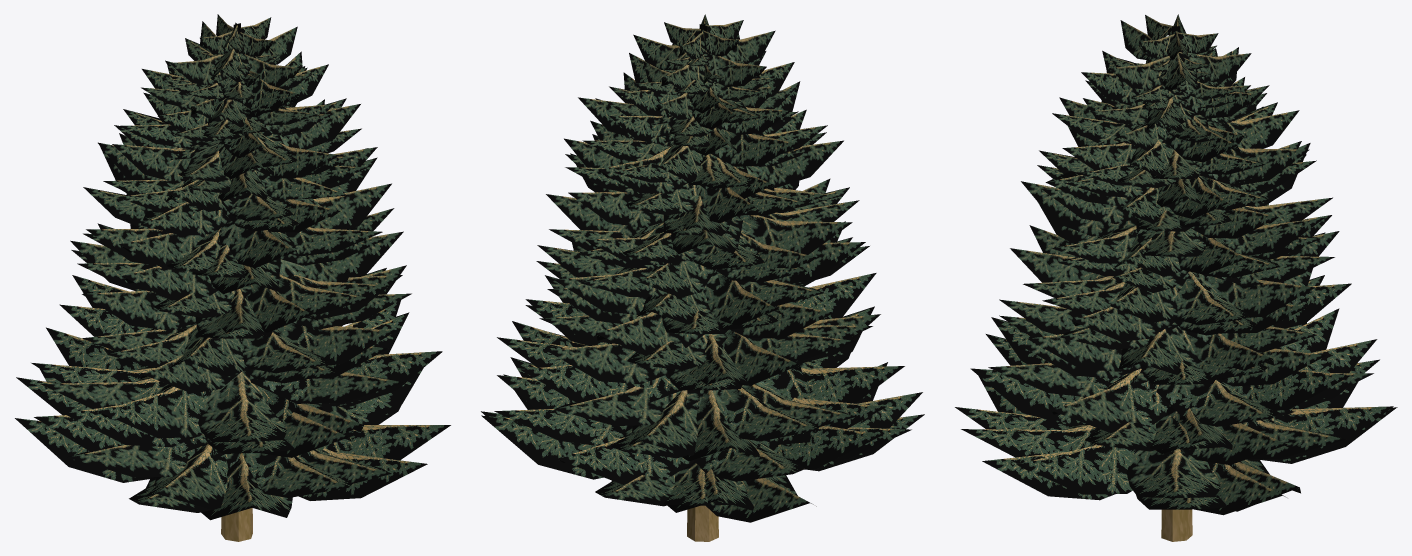
Rendered from model_choinka_gesta.fbx.
The picture shows the model from 3 angles, left to right: view 1: azimuth 30°, elevation 25°; view 2: azimuth 150°, elevation 25°; view 3: azimuth 270°, elevation 25°; orthographic projection.
Visible parts, largest first — view 1: choinka_2; view 2: choinka_2; view 3: choinka_2.
Part boxes in pixels (x1=…): choinka_2: x1=15, y1=14, x2=450, y2=541; choinka_2: x1=481, y1=14, x2=924, y2=541; choinka_2: x1=955, y1=14, x2=1397, y2=541.
Size of the model in its own units: 811 by 1026 by 809.
